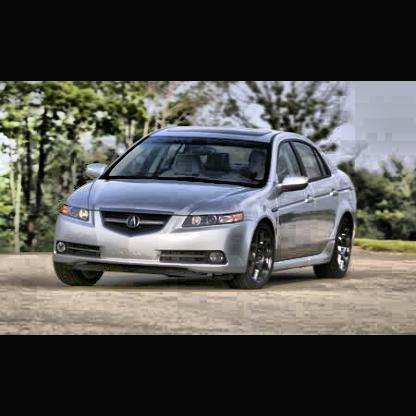Acura TL Type-S 2008: (54, 127, 359, 282)
